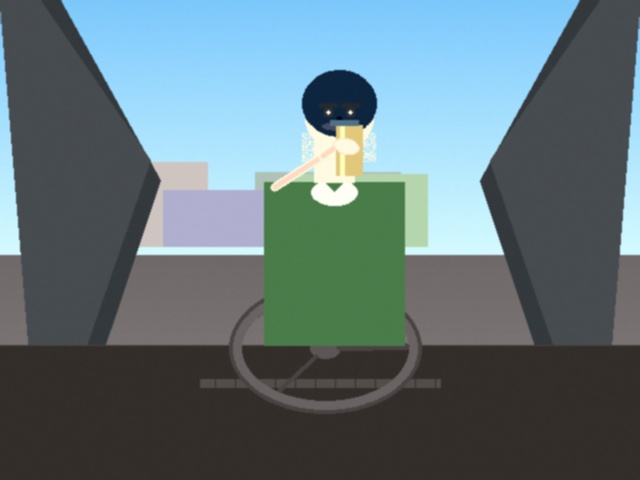drinking: (321, 110, 372, 185)
